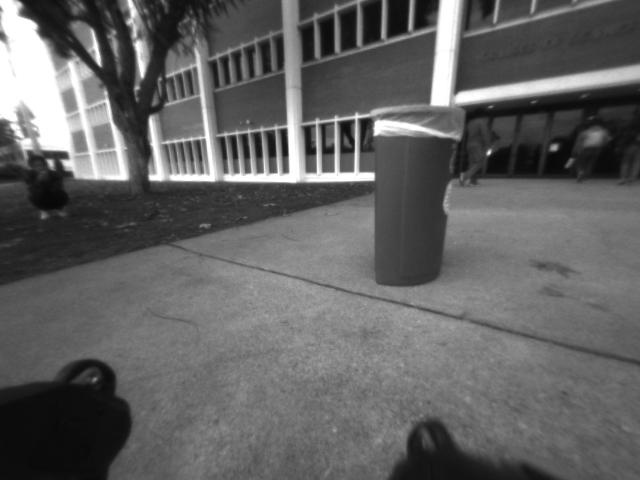trashcan: (364, 101, 476, 295)
